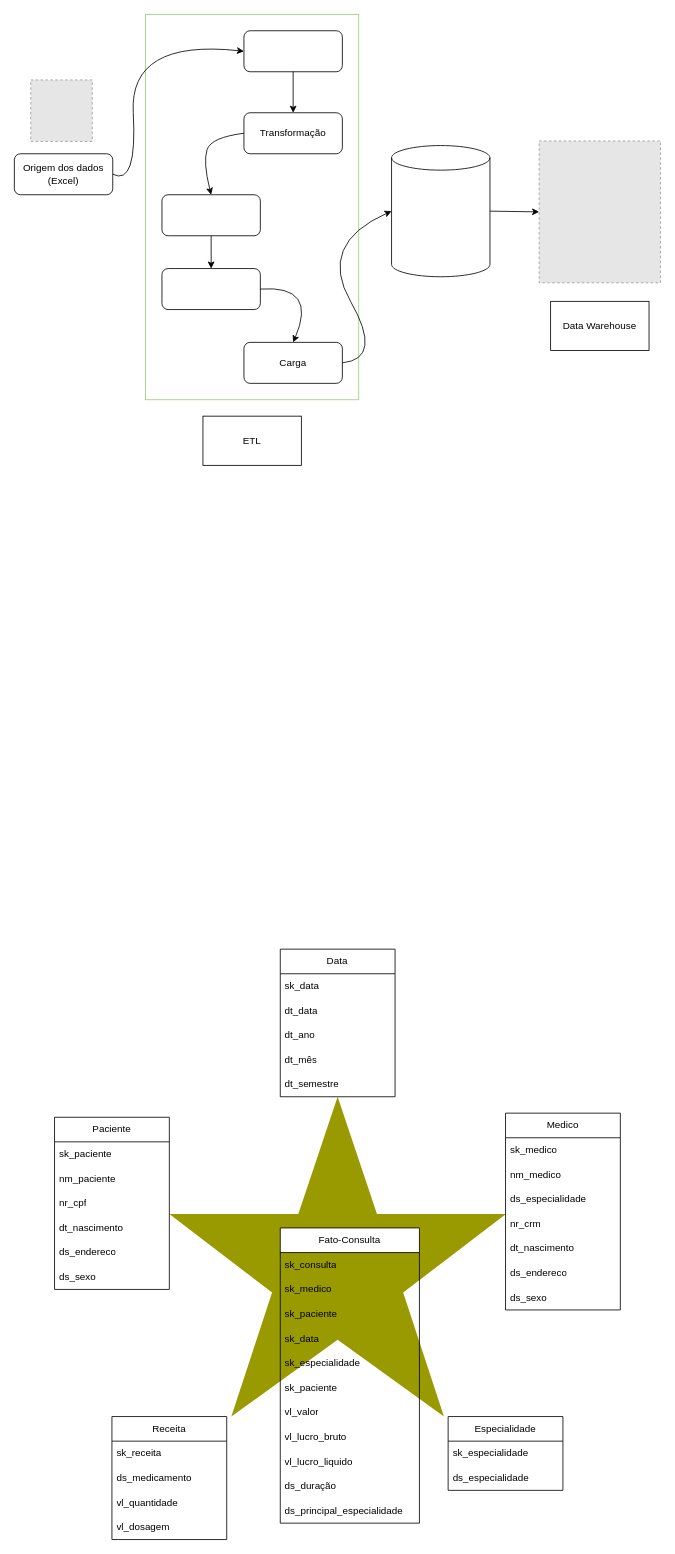
This 675x1554 diagram has some shape labels left out. Grey dashed boxes stand in for pictures. The centre of each missing label's shape, as x and y in pixels:
"Data Marts Qualidade Regras de negócio" goes at point 440,211.
"Exportação" goes at point 292,51.
"Filtragem Limpeza" goes at point 210,215.
"Qualidade dos dados" goes at point 210,289.
